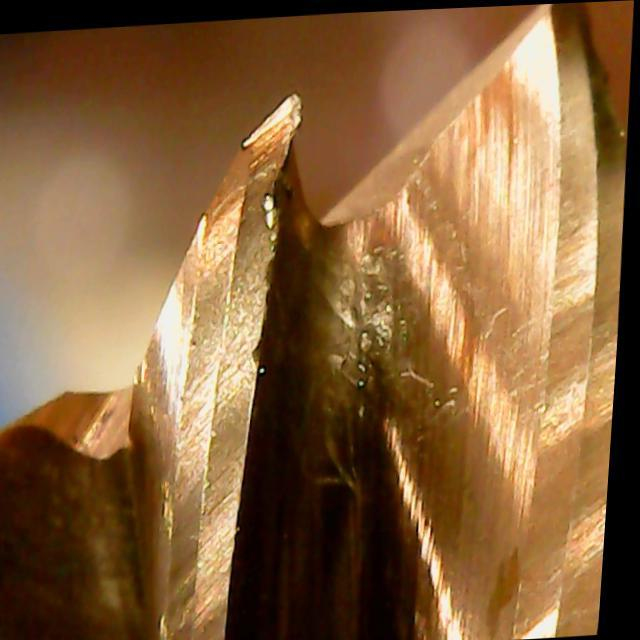Tool-wear-class-1: (156, 80, 337, 370)
